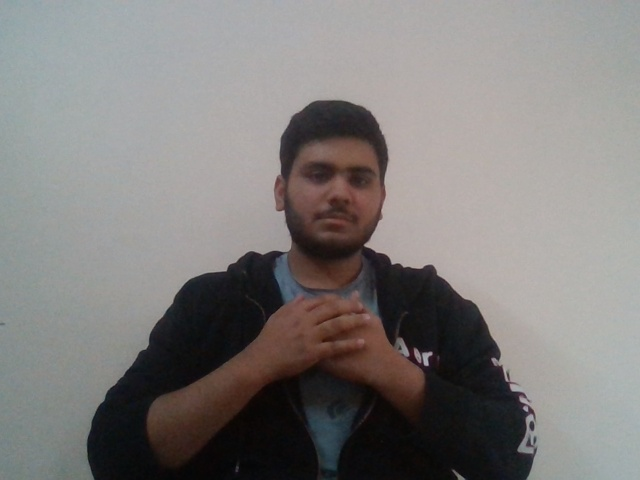Please: (257, 283, 394, 375)
